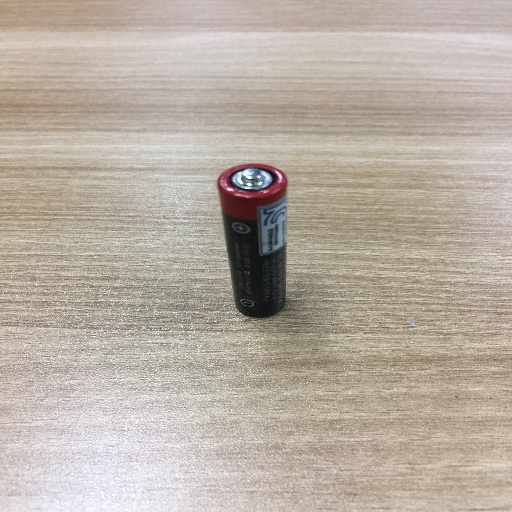Battery_0: (207, 156, 297, 337)
